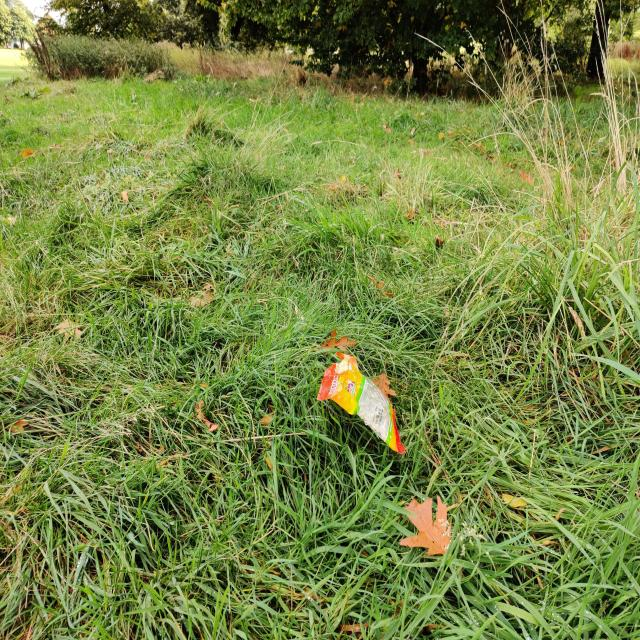litter: (318, 354, 407, 451)
